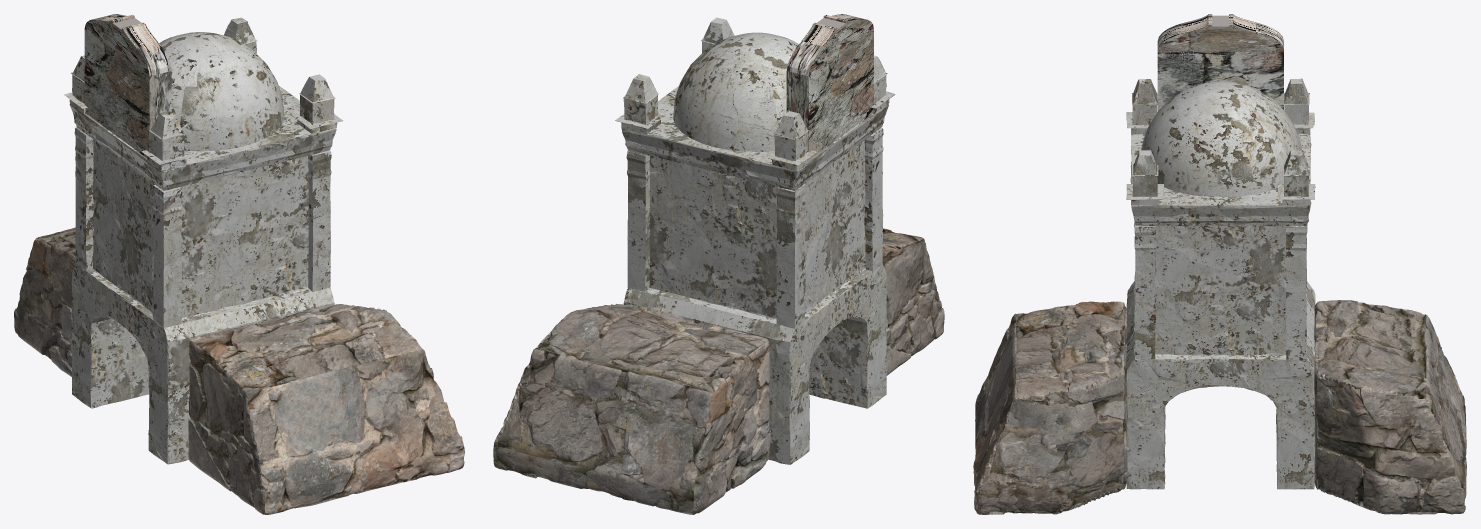
Rendered from Albarradon-v3.glb.
The picture shows the model from 3 angles, left to right: view 1: azimuth 30°, elevation 25°; view 2: azimuth 150°, elevation 25°; view 3: azimuth 270°, elevation 25°; orthographic projection. The views are drawn at different scales.
Parts seen in each view (by area): view 1: Rompeolas, ERMITA, COLUMNAS, Cupula, Fronton; view 2: Rompeolas, ERMITA, COLUMNAS, Cupula, Fronton; view 3: Rompeolas, ERMITA, Cupula, COLUMNAS, Fronton.
Boxes of the visible parts, left/top/right/bottom form: Rompeolas: left=14, top=227, right=464, bottom=514; ERMITA: left=69, top=86, right=336, bottom=464; COLUMNAS: left=64, top=17, right=342, bottom=328; Cupula: left=159, top=32, right=284, bottom=151; Fronton: left=84, top=14, right=171, bottom=157; Rompeolas: left=493, top=228, right=944, bottom=514; ERMITA: left=621, top=86, right=888, bottom=464; COLUMNAS: left=615, top=17, right=895, bottom=328; Cupula: left=673, top=32, right=798, bottom=151; Fronton: left=786, top=14, right=873, bottom=157; Rompeolas: left=973, top=300, right=1466, bottom=514; ERMITA: left=1125, top=134, right=1315, bottom=489; Cupula: left=1141, top=81, right=1301, bottom=196; COLUMNAS: left=1126, top=78, right=1315, bottom=359; Fronton: left=1157, top=14, right=1283, bottom=111.
Size of the model in its own units: 13.69 by 23.2 by 26.14.
3 materials, 3 textured.
